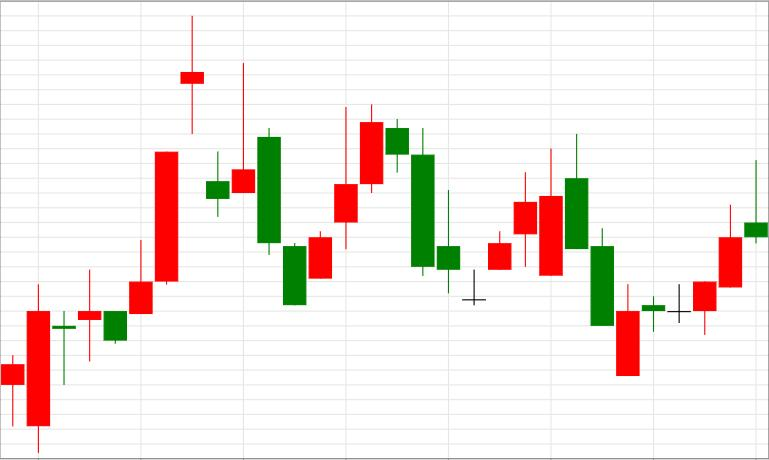morning_star_rise: (386, 119, 511, 306)
